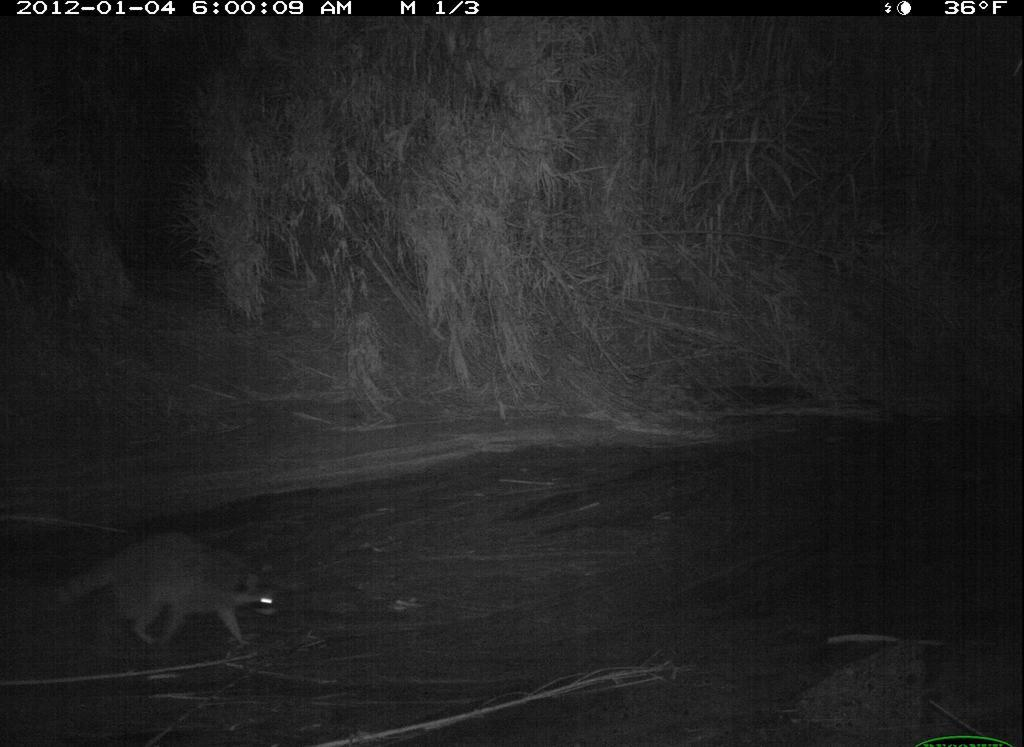raccoon: (20, 519, 294, 662)
